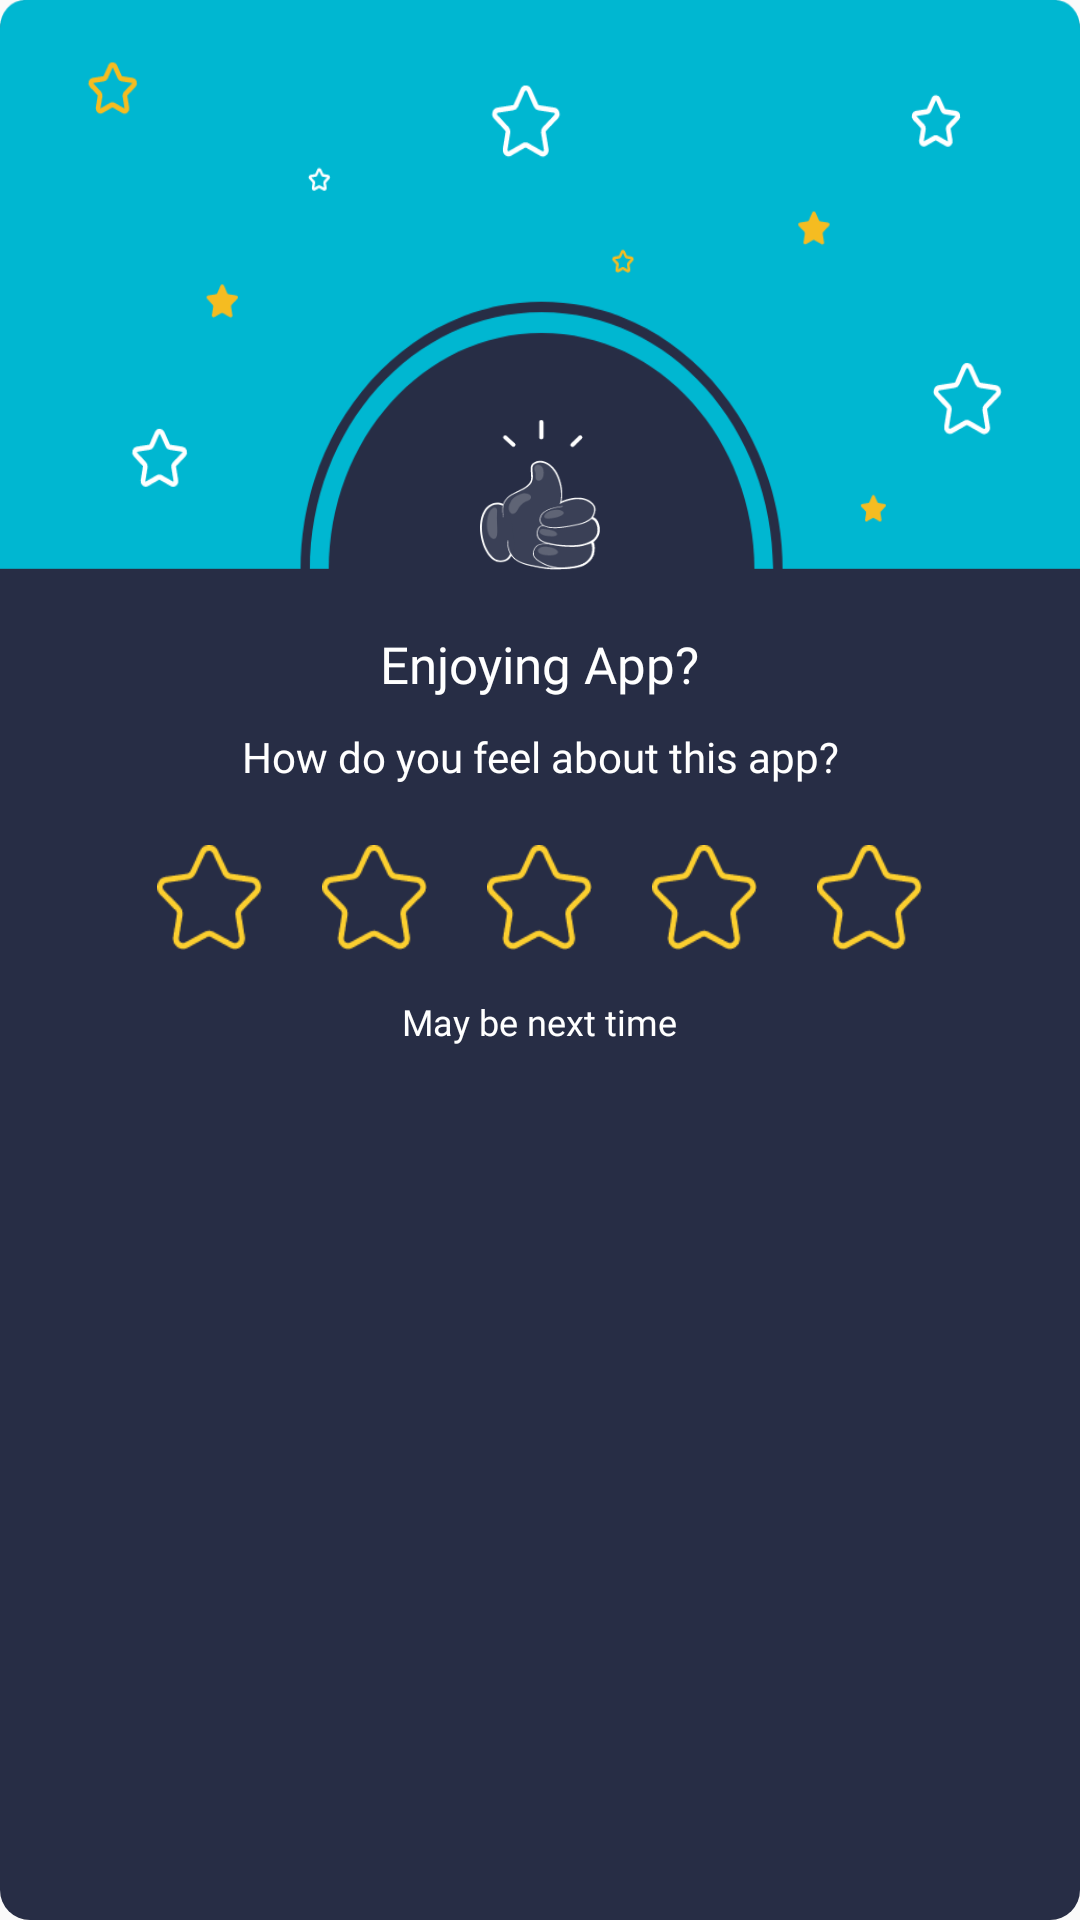

Icon click points for this 1080×1920 phone screenshot, format (x=x, y=y):
rating hand: (x=540, y=495)
